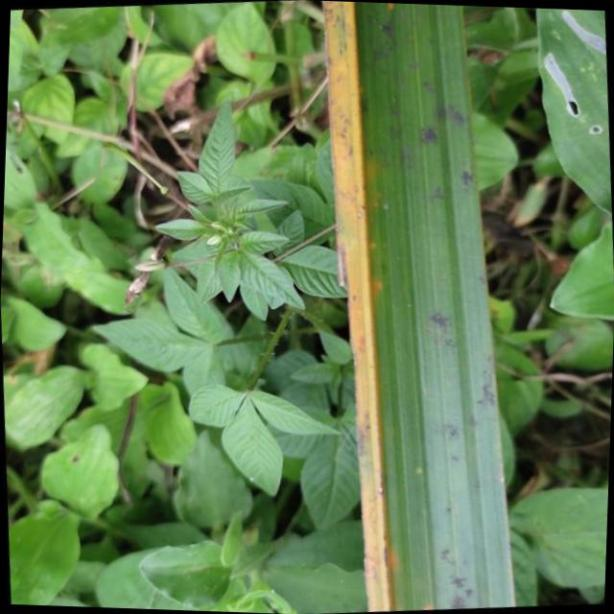Megnesium: (326, 0, 517, 614)
